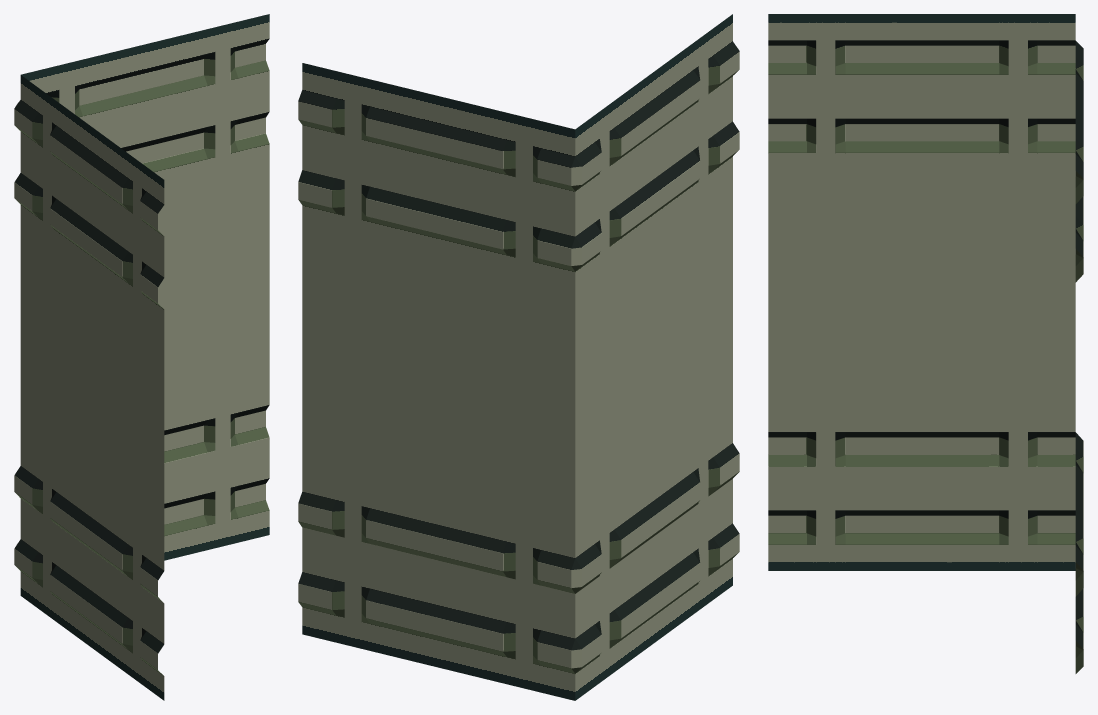
File: Wall_Corner_01.glb
The picture shows the model from 3 angles, left to right: view 1: azimuth 30°, elevation 25°; view 2: azimuth 150°, elevation 25°; view 3: azimuth 270°, elevation 25°; orthographic projection. The views are drawn at different scales.
Visible parts, largest first — view 1: Wall_Corner_01; view 2: Wall_Corner_01; view 3: Wall_Corner_01.
Boxes of the visible parts, x1,y1,x2,y2 form: Wall_Corner_01: [14, 14, 269, 700]; Wall_Corner_01: [298, 14, 739, 700]; Wall_Corner_01: [768, 14, 1083, 673].
Bounding box in the file's own units: 1.02 × 2 × 1.02.
Materials: 1 (1 with a texture image).
